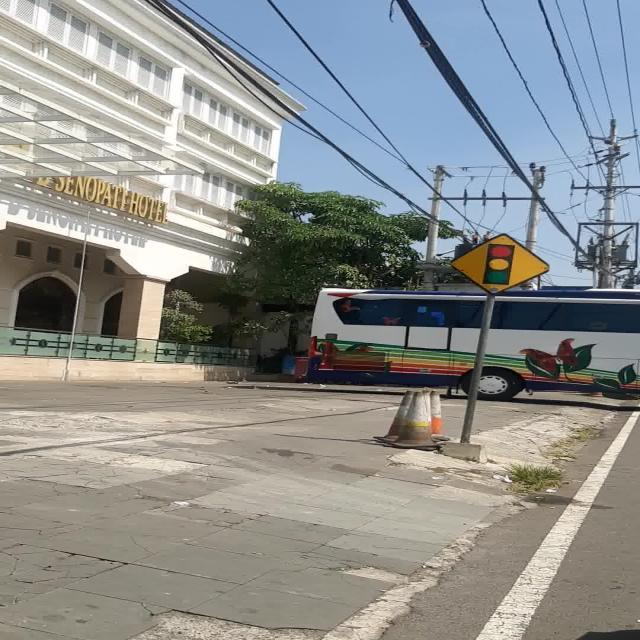Lampu Lalu Lintas: (450, 233, 550, 295)
